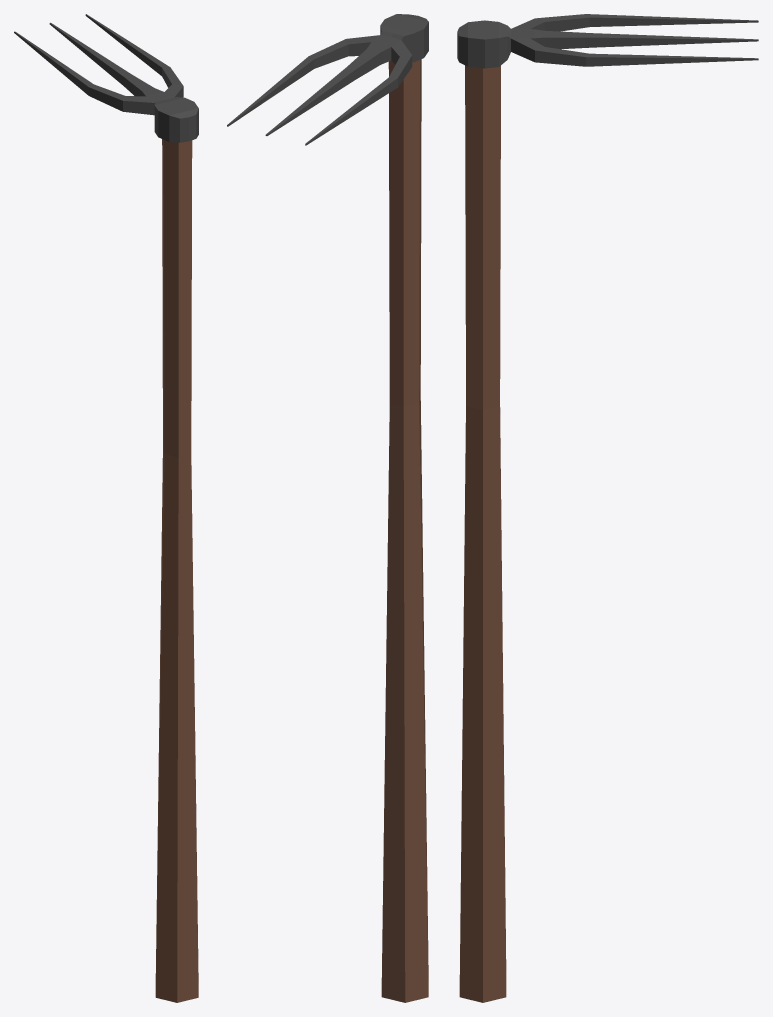
The picture shows the model from 3 angles, left to right: view 1: azimuth 30°, elevation 25°; view 2: azimuth 150°, elevation 25°; view 3: azimuth 270°, elevation 25°; orthographic projection. The views are drawn at different scales.
Parts seen in each view (by area): view 1: 农具_3; view 2: 农具_3; view 3: 农具_3.
Part boxes in pixels (x1,y1,x2,y2): 农具_3: (14,14,198,1002); 农具_3: (227,14,428,1002); 农具_3: (457,14,758,1002).
Bounding box in the file's own units: 20.01 × 208 × 58.98.
